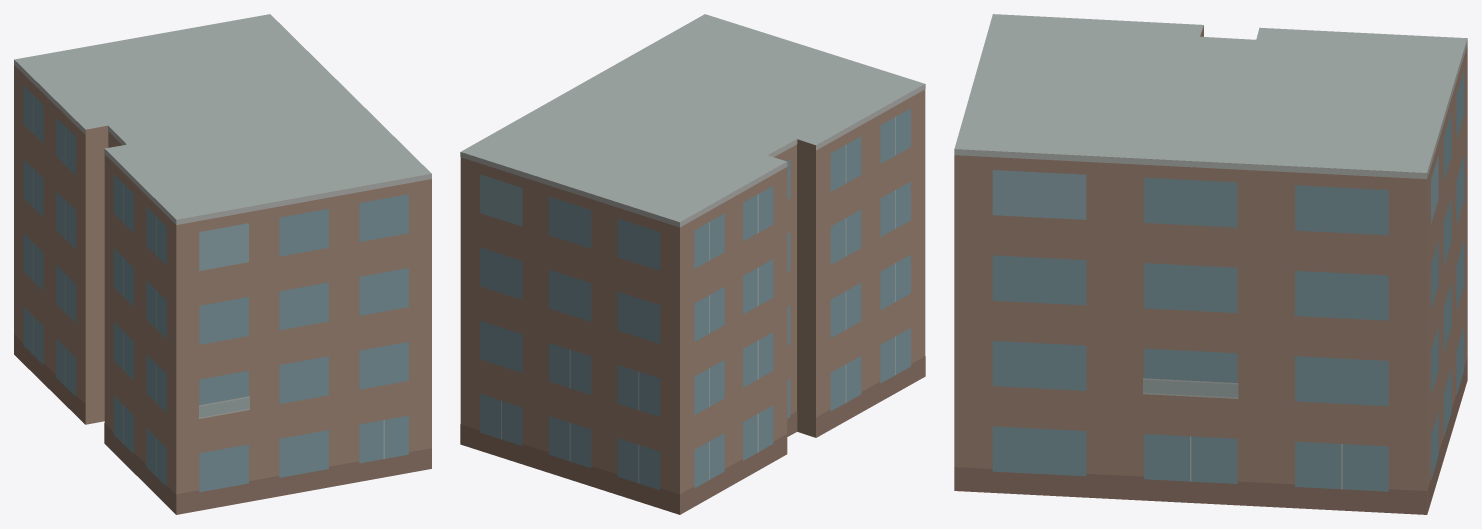
File: survey-upis-32940101.glb
The picture shows the model from 3 angles, left to right: view 1: azimuth 30°, elevation 25°; view 2: azimuth 150°, elevation 25°; view 3: azimuth 270°, elevation 25°; orthographic projection. The views are drawn at different scales.
Visible parts, largest first — view 1: survey-upis-32940101.tmp; view 2: survey-upis-32940101.tmp; view 3: survey-upis-32940101.tmp.
Part boxes in pixels (x1,y1,x2,y2): survey-upis-32940101.tmp: (14, 14, 431, 514); survey-upis-32940101.tmp: (460, 14, 925, 514); survey-upis-32940101.tmp: (954, 14, 1467, 514).
Bounding box in the file's own units: 13.6 × 13.62 × 18.54.
